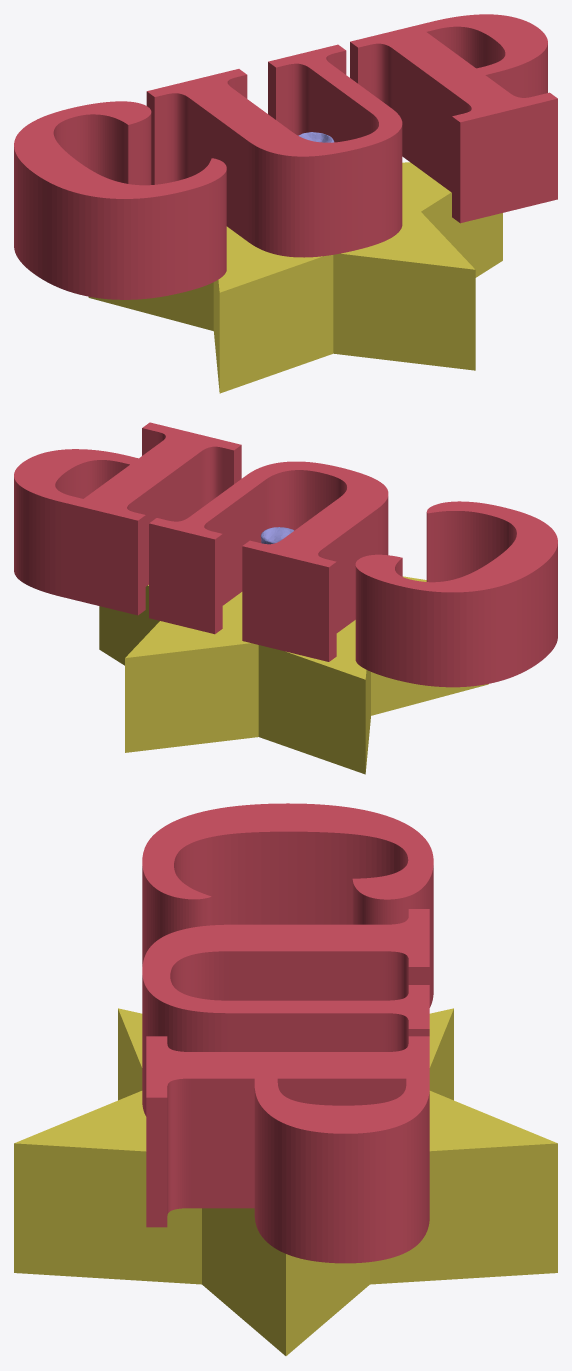
Rendered from cup2.glb.
3 views of the same model, one above another, from view 1: azimuth 30°, elevation 25°; view 2: azimuth 150°, elevation 25°; view 3: azimuth 270°, elevation 25° (orthographic). The views are drawn at different scales.
Visible parts, largest first — view 1: Mesh_Mesh_head_geo.001_lambert2SG.001; view 2: Mesh_Mesh_head_geo.001_lambert2SG.001; view 3: Mesh_Mesh_head_geo.001_lambert2SG.001.
Part boxes in pixels (x1,y1,x2,y2): Mesh_Mesh_head_geo.001_lambert2SG.001: (14,14,557,393); Mesh_Mesh_head_geo.001_lambert2SG.001: (14,422,557,774); Mesh_Mesh_head_geo.001_lambert2SG.001: (14,803,557,1355).
Size of the model in its own units: 0.0547 by 0.02 by 0.038.
